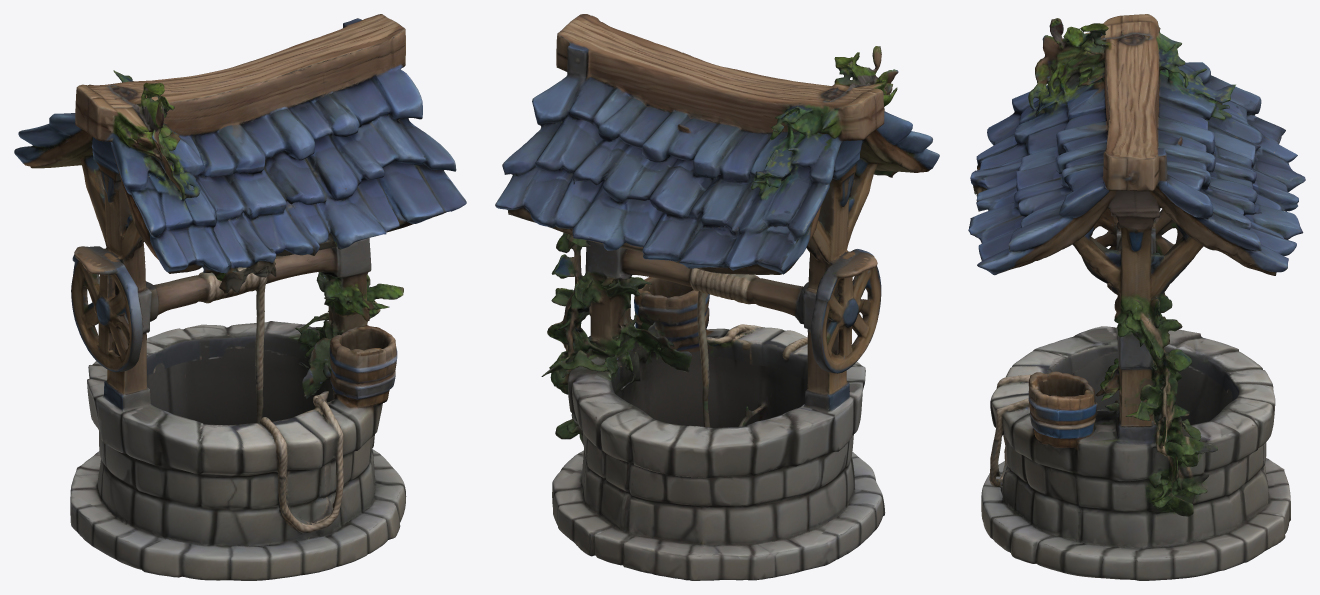
Rendered from wishing_well_odyssey.glb.
3 renders of one model, left to right at view 1: azimuth 30°, elevation 25°; view 2: azimuth 150°, elevation 25°; view 3: azimuth 270°, elevation 25°, orthographic. The views are drawn at different scales.
Size of the model in its own units: 1.41 by 1.99 by 1.37.
1 material, 1 textured.
